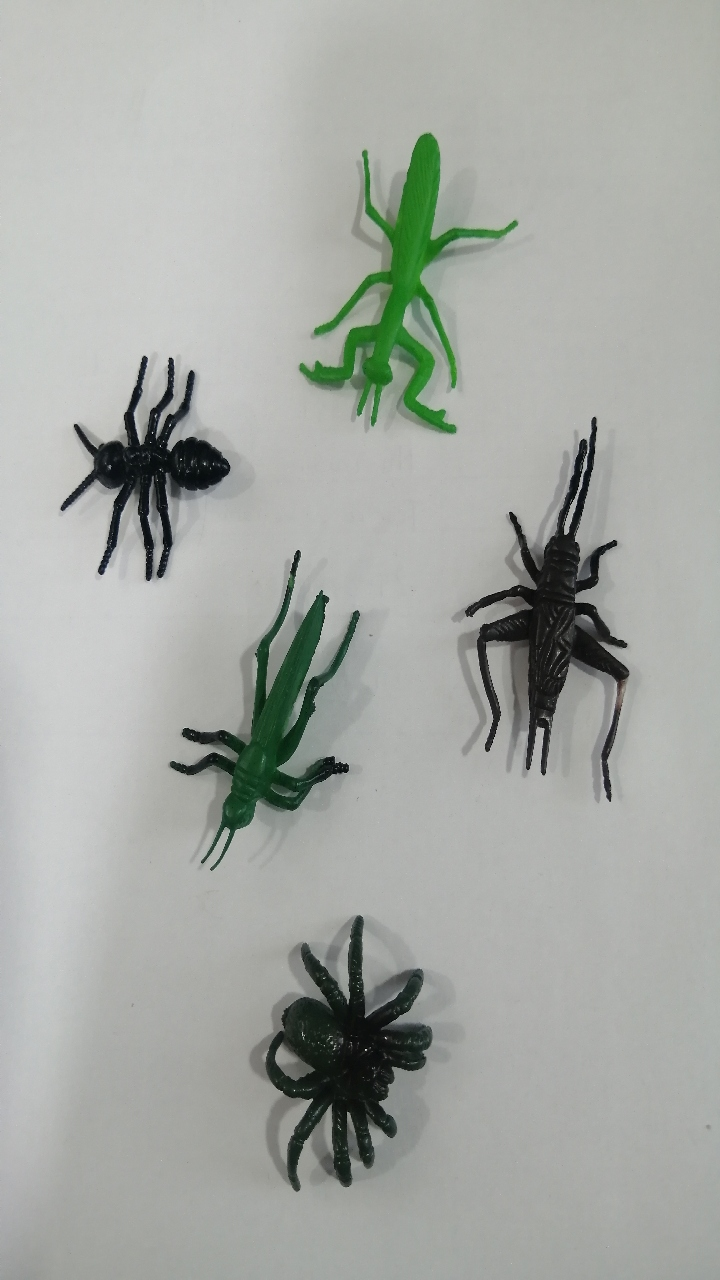intruso: (261, 102, 524, 480), (435, 402, 651, 811), (231, 899, 471, 1229), (154, 534, 384, 874), (32, 342, 263, 600)
